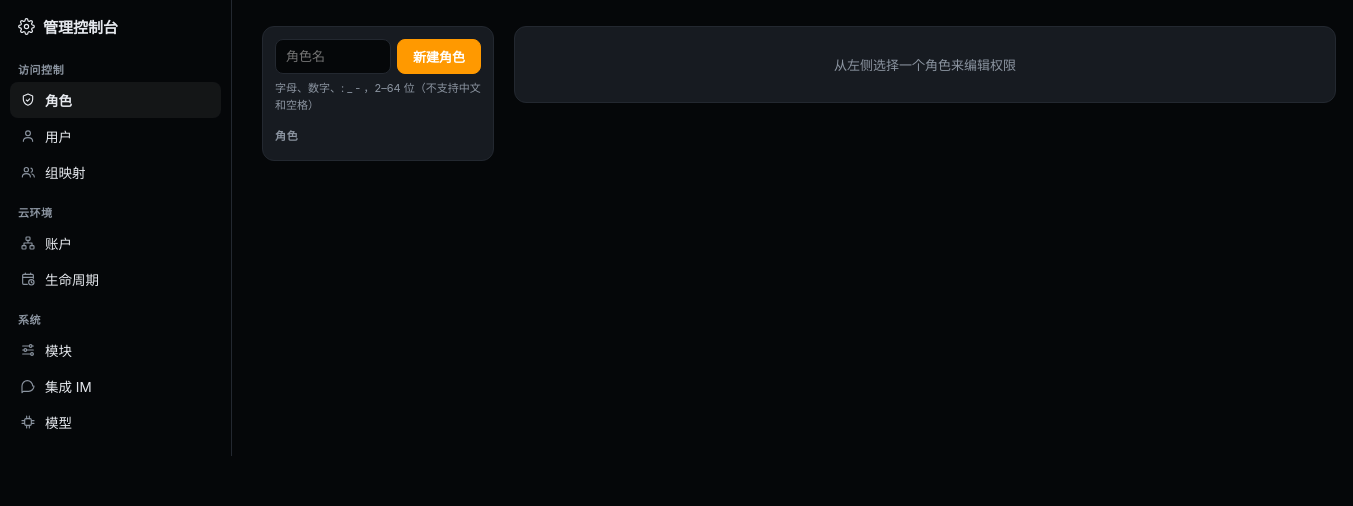
Test case: 新建用户：邮箱必填 › 没填邮箱按钮是灰的；不像邮箱 → 人话、不发请求；填对了才建
Click the button with class "notif-navitem" showing "用户" at (116, 136), box [10,118,221,154]
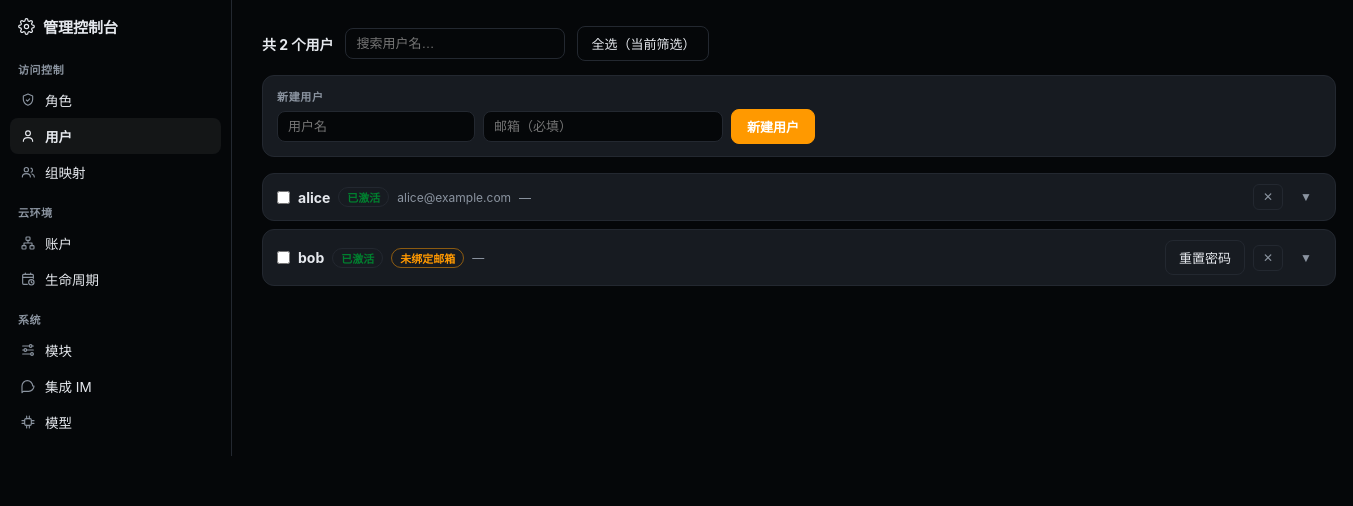
expect the text "bob" is shown: met, box [298,249,324,266]
Type "dave" into the field with placeholder "用户名" at (376, 126), box [277,111,475,142]
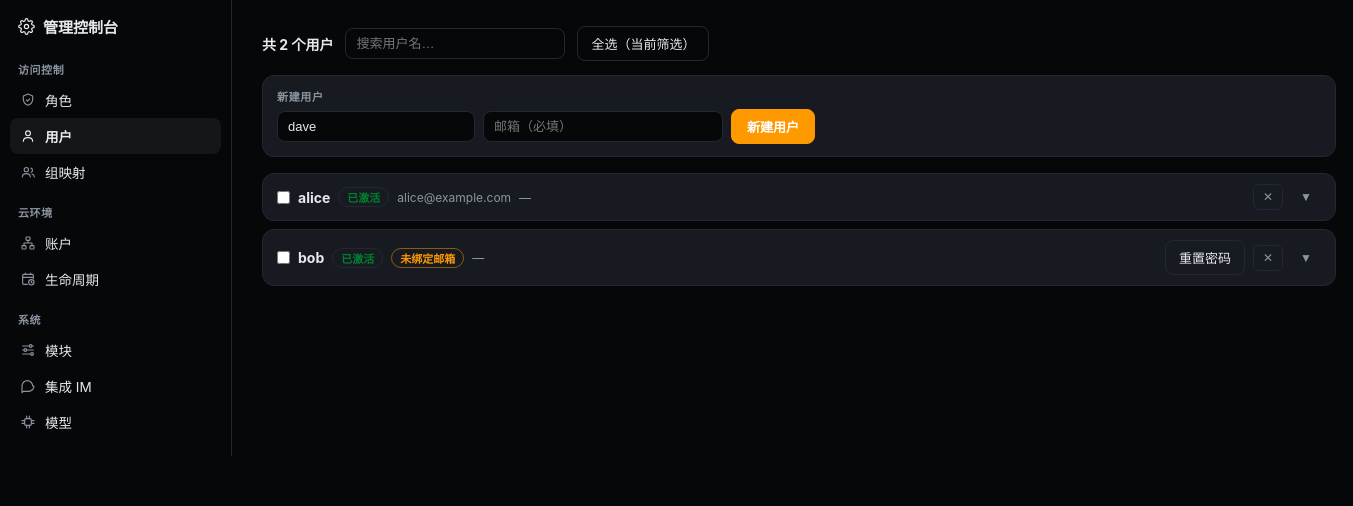
expect the button "新建用户" is disabled: met, box [731,109,815,144]
Type "dave" into the field labelled "邮箱（必填）" at (603, 126), box [483,111,723,142]
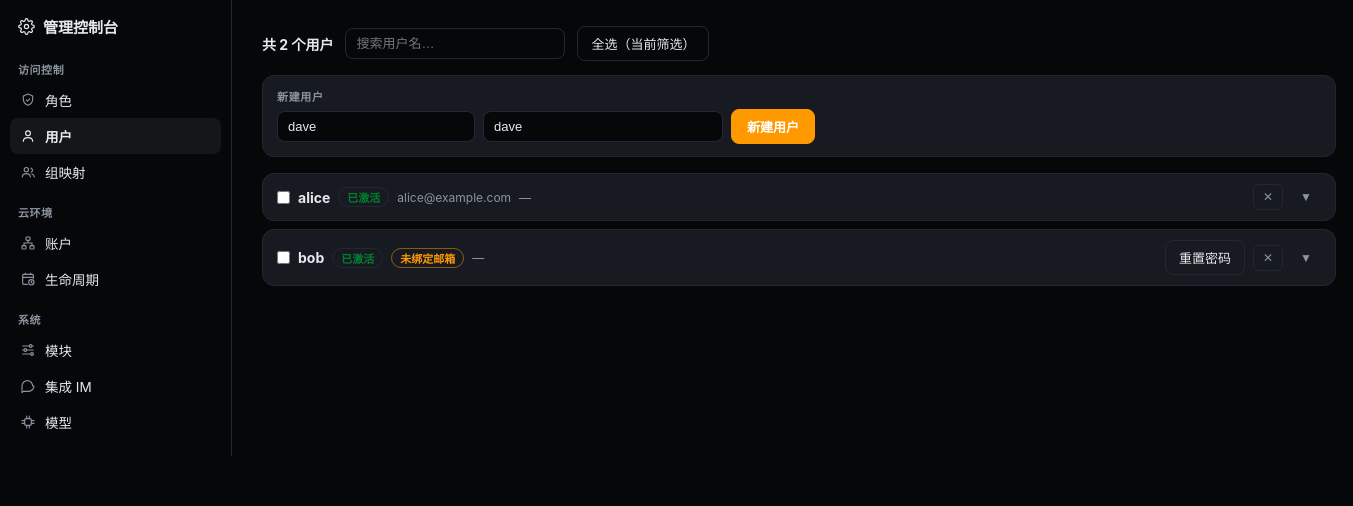
Click the button "新建用户" at (773, 126), box [731,109,815,144]
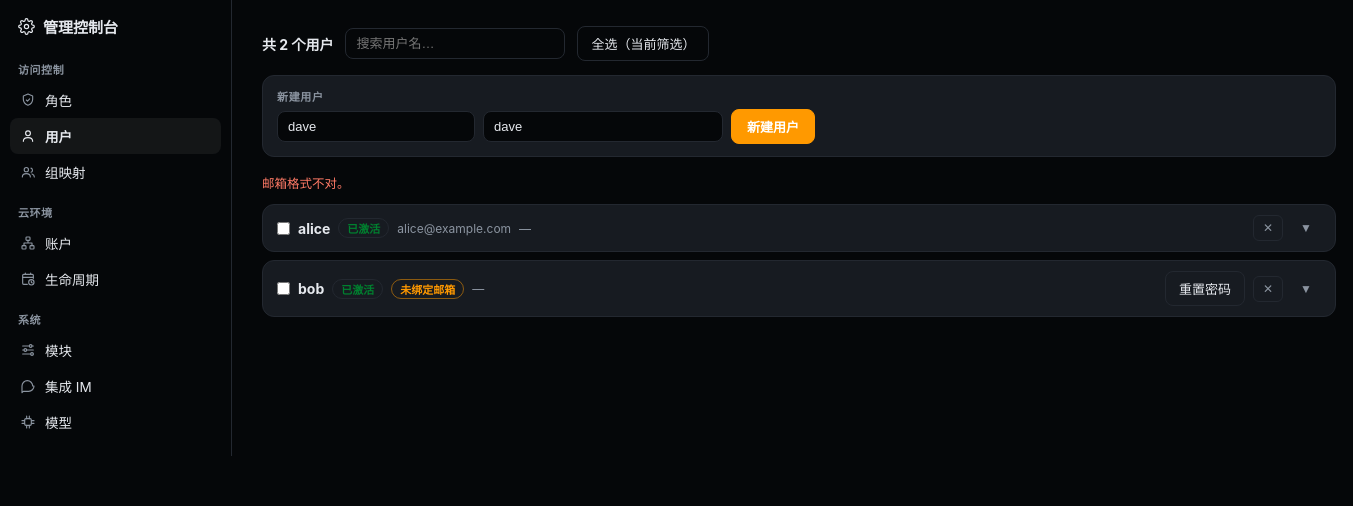
expect the text "邮箱格式不对。" is shown: met, box [262,176,350,191]
Replace the text in the field named "邮箱（必填）" with " dave@example.com " at (603, 126), box [483,111,723,142]
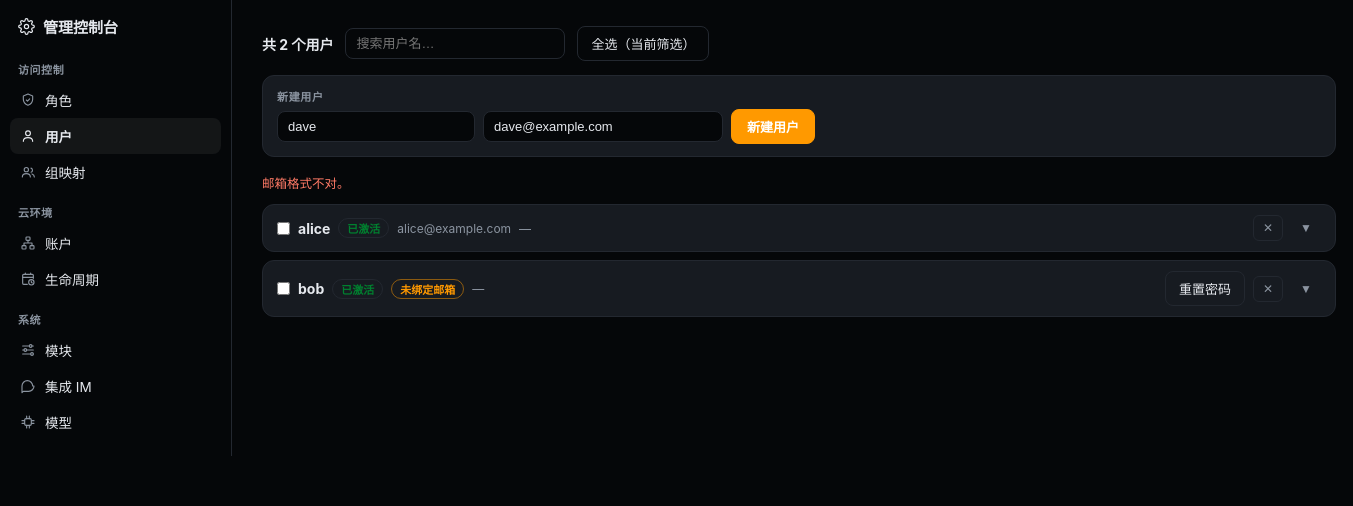
Click the button "新建用户" at (773, 126), box [731,109,815,144]
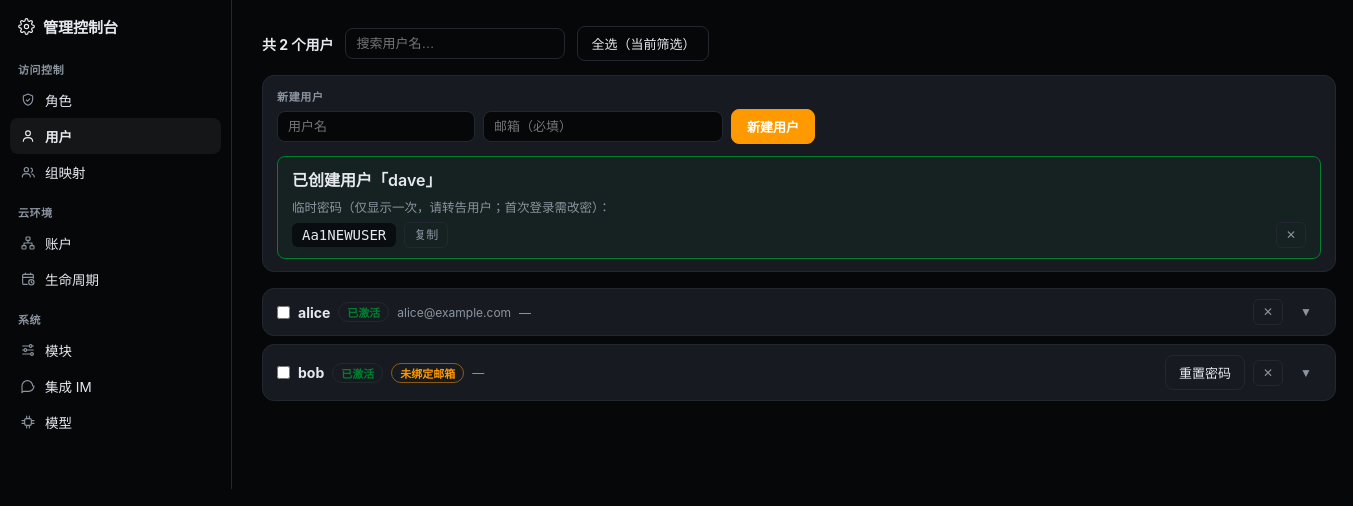
expect the text "Aa1NEWUSER" is shown: met, box [292,223,396,247]
